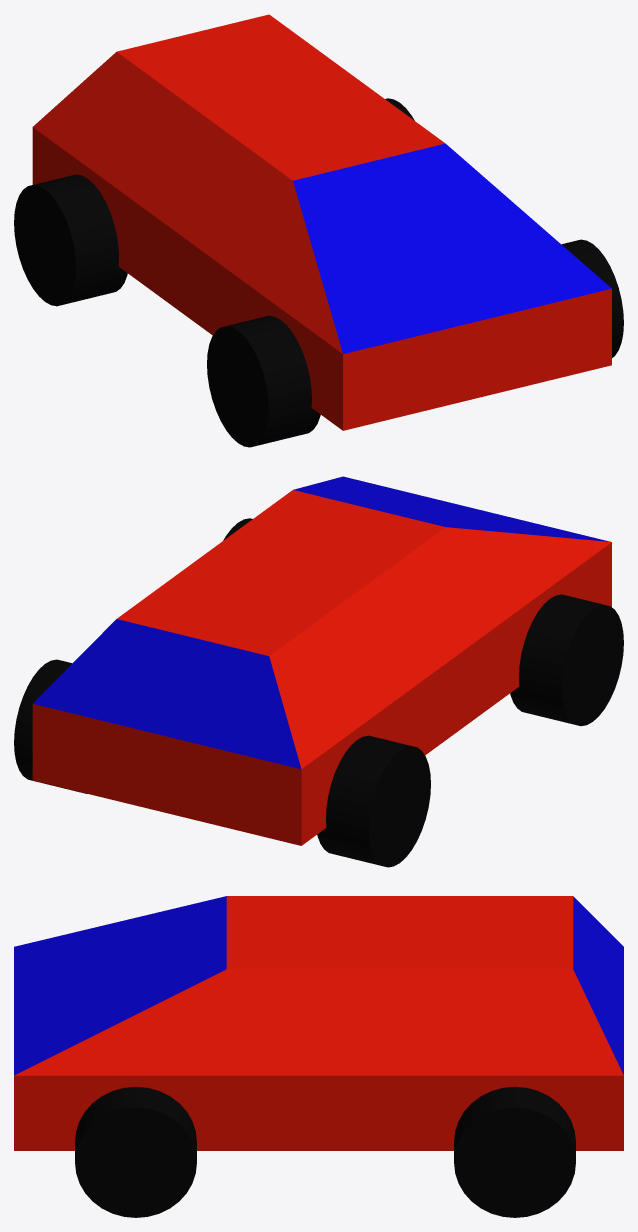
Rendered from car2.gltf.
3 views of the same model, one above another, from view 1: azimuth 30°, elevation 25°; view 2: azimuth 150°, elevation 25°; view 3: azimuth 270°, elevation 25° (orthographic).
Parts seen in each view (by area): view 1: Car, RightFront, RightBack, LeftFront; view 2: Car, RightFront, RightBack, LeftBack; view 3: Car, LeftFront, LeftBack.
Boxes of the visible parts, x1,y1,x2,y2 form: Car: (32,14,611,430); RightFront: (207,315,320,447); RightBack: (14,174,127,306); LeftFront: (561,239,623,357); Car: (32,476,611,845); RightFront: (510,594,623,726); RightBack: (317,735,430,867); LeftBack: (14,659,87,793); Car: (14,896,623,1150); LeftFront: (75,1086,196,1217); LeftBack: (454,1086,575,1217).
Size of the model in its own units: 6.6 by 3.62 by 10.
